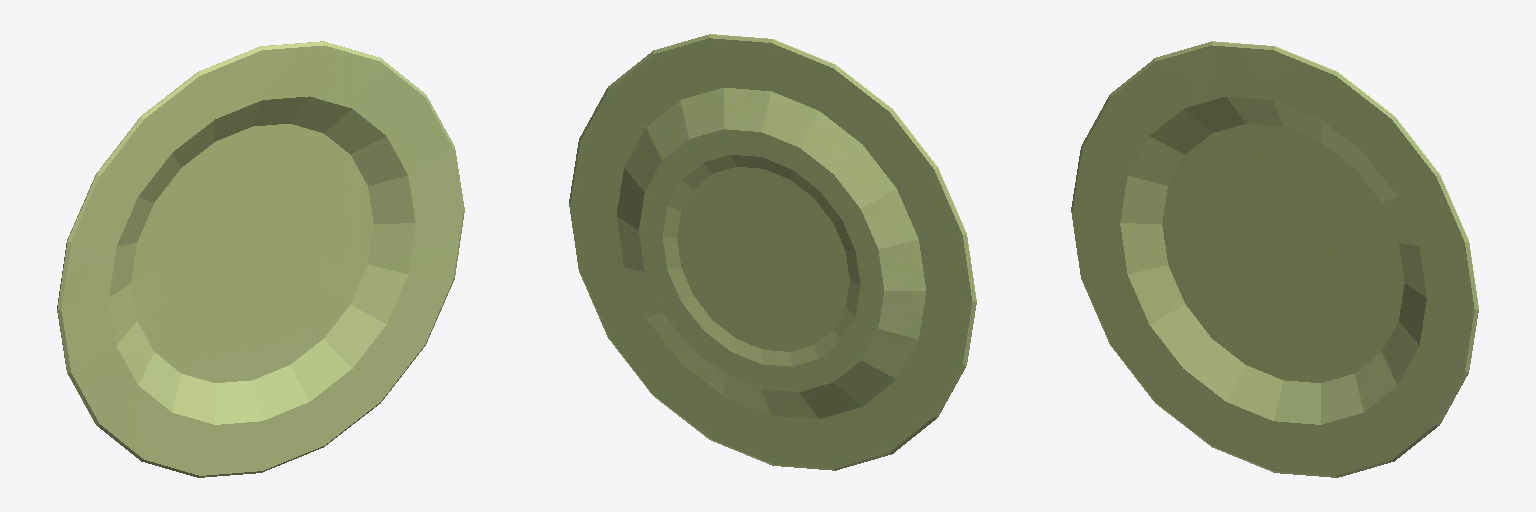
The picture shows the model from 3 angles: view 1: azimuth 30°, elevation 25°; view 2: azimuth 150°, elevation 25°; view 3: azimuth 330°, elevation 25°; orthographic projection.
Parts seen in each view (by area): view 1: Object_2_Object_0.002; view 2: Object_2_Object_0.002; view 3: Object_2_Object_0.002.
Part boxes in pixels (bbox=[...]): Object_2_Object_0.002: bbox=[57, 41, 464, 477]; Object_2_Object_0.002: bbox=[569, 34, 976, 470]; Object_2_Object_0.002: bbox=[1071, 41, 1478, 477].
Bounding box in the file's own units: 0.11 × 0.11 × 0.006.
1 materials, 1 textured.